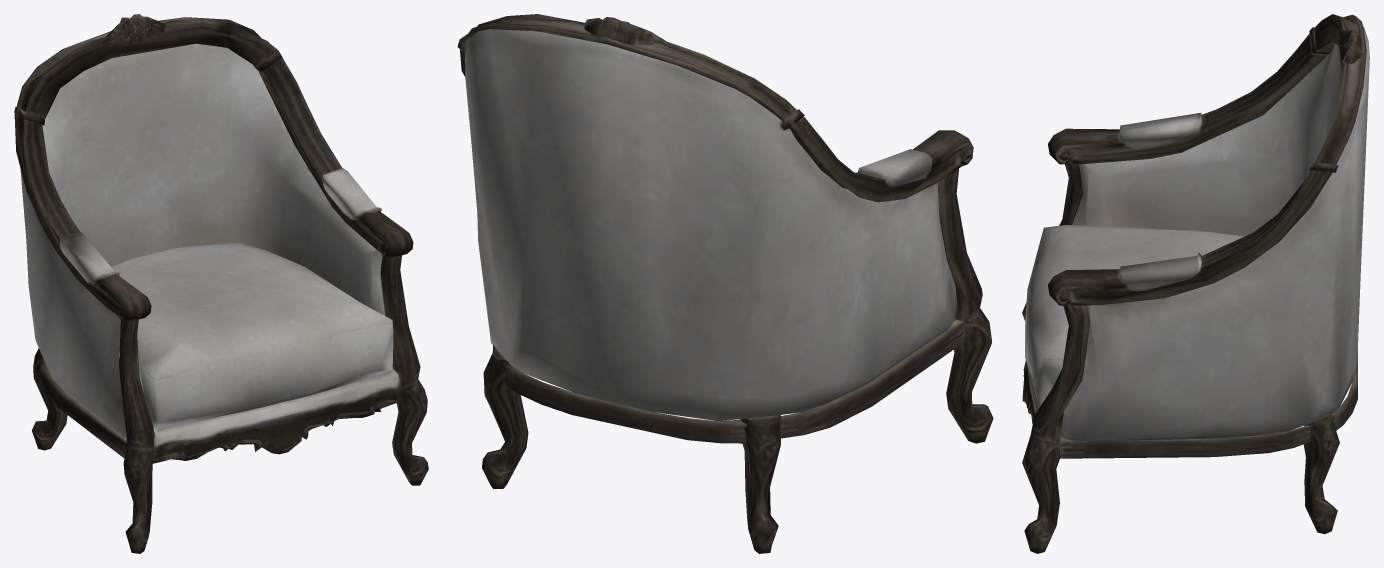
Rendered from ArmChair_01.glb.
3 renders of one model, left to right at view 1: azimuth 30°, elevation 25°; view 2: azimuth 150°, elevation 25°; view 3: azimuth 270°, elevation 25°, orthographic. The views are drawn at different scales.
Parts seen in each view (by area): view 1: ArmChair_01; view 2: ArmChair_01; view 3: ArmChair_01.
Part boxes in pixels (<box>): ArmChair_01: <box>14,14,428,553</box>; ArmChair_01: <box>457,14,993,553</box>; ArmChair_01: <box>1022,14,1369,553</box>.
Bounding box in the file's own units: 0.8483 × 1.06 × 0.7618.
1 material, 1 textured.
